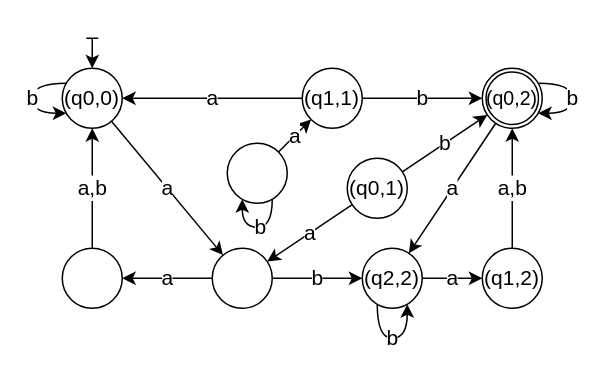
The diagram is 603 pixels wide and 377 high, and some of its shapes have lost their labels. Each missing label, with the box of its shape:
( q1 , 0 ): (61, 247, 122, 308)
( q2 , 0 ): (226, 142, 287, 203)
( q2 , 1 ): (211, 247, 272, 308)
